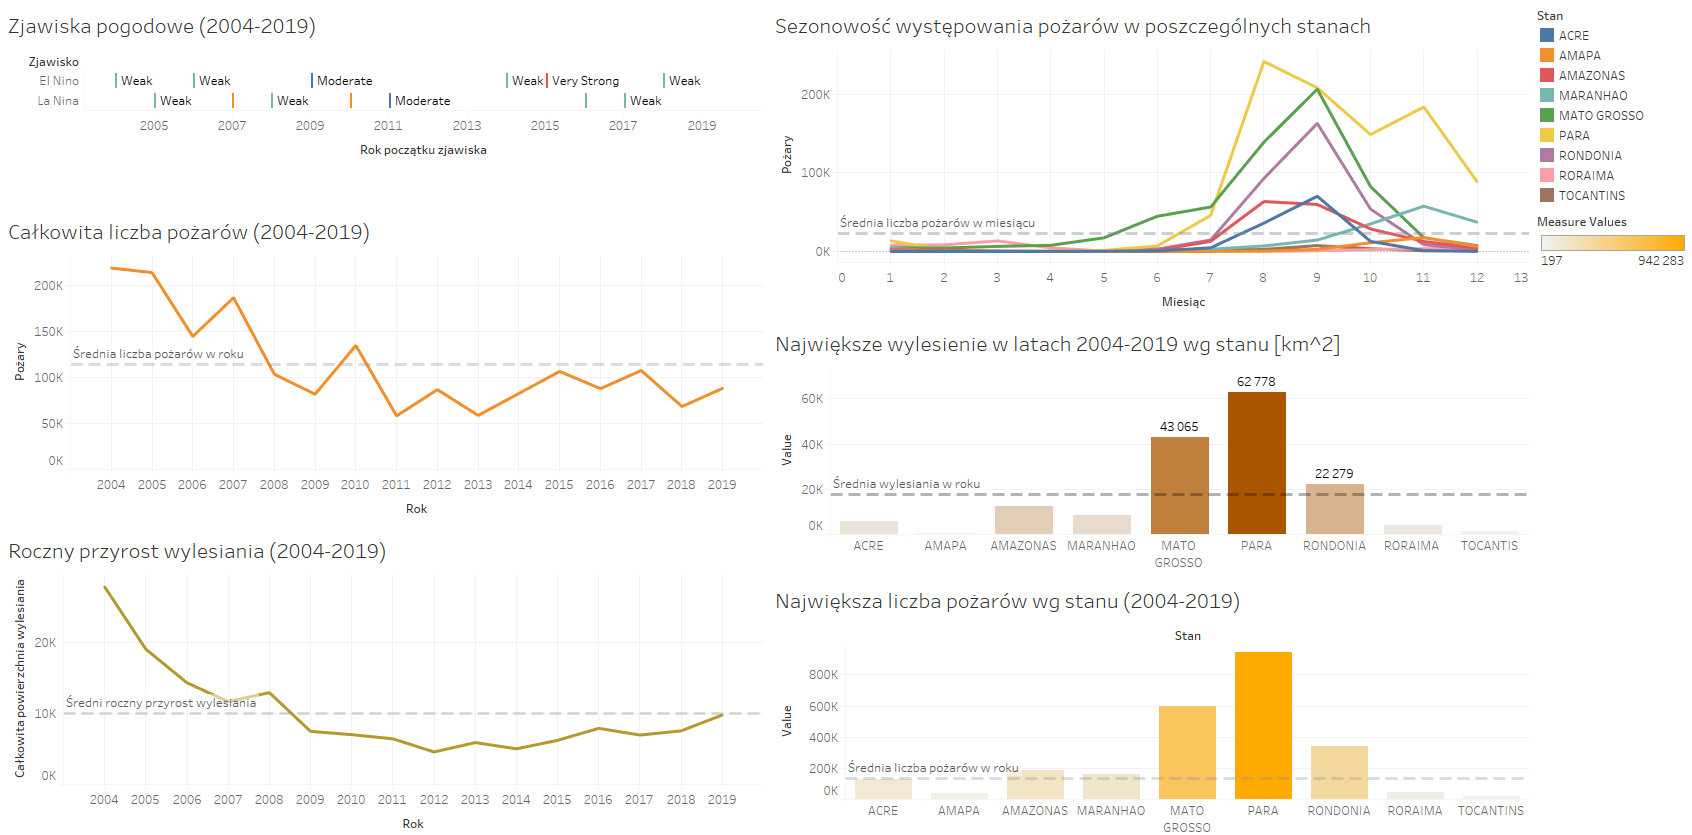

This screenshot's page, from the dashboard's own definition file:
{"tool":"tableau","page":{"name":"Dashboard 2","canvas":[1000,1000],"units":"permille","ordinal":1},"visuals":[{"type":"worksheet","title":"Zjawiska pogodowe (2)","mark":"Automatic","rows":["phenomenon"],"cols":["start_year"],"box":[4.7,9.3,448.5,240.7]},{"type":"worksheet","title":"Sezonowość pożarów wg stanów","mark":"Automatic","rows":["firespots"],"cols":["month"],"box":[453.2,9.3,448.5,371.5]},{"type":"legend","title":"Sezonowość pożarów wg stanów","param":"[federated.10yu5iu0tep4pw1dtmyhq009dr22].[none:state:nk]","box":[901.7,9.3,93.6,240.7]},{"type":"worksheet","title":"Całkowita liczba pożarów rocznie","mark":"Automatic","rows":["firespots"],"cols":["year"],"box":[4.7,250,448.5,372.7]},{"type":"legend","title":"Największa liczba pożarów","param":"[federated.10yu5iu0tep4pw1dtmyhq009dr22].[Multiple Values]","box":[901.7,250,93.6,75.9]},{"type":"worksheet","title":"Największe wylesienie","mark":"Automatic","box":[453.2,380.8,448.5,300.2]},{"type":"worksheet","title":"Ogólny trend wylesiania (2)","mark":"Automatic","rows":["AMZ LEGAL"],"cols":["Ano/Estados"],"box":[4.7,622.7,448.5,368]},{"type":"worksheet","title":"Największa liczba pożarów","mark":"Automatic","cols":["state"],"box":[453.2,681.1,448.5,309.6]}]}

Visuals, with their boxes on the dashboard's canvas, which has no fixed pixel size, in thousandths of its width and height (x1, y1, x2, y2). These are canvas units, not pixel positions in the 1692x835 screenshot, which may show the page scaled, cropped or inside an application window:
"Zjawiska pogodowe (2)" worksheet: pyautogui.locateOnScreen(5, 9, 453, 250)
"Sezonowość pożarów wg stanów" worksheet: pyautogui.locateOnScreen(453, 9, 902, 381)
"Sezonowość pożarów wg stanów" legend: pyautogui.locateOnScreen(902, 9, 995, 250)
"Całkowita liczba pożarów rocznie" worksheet: pyautogui.locateOnScreen(5, 250, 453, 623)
"Największa liczba pożarów" legend: pyautogui.locateOnScreen(902, 250, 995, 326)
"Największe wylesienie" worksheet: pyautogui.locateOnScreen(453, 381, 902, 681)
"Ogólny trend wylesiania (2)" worksheet: pyautogui.locateOnScreen(5, 623, 453, 991)
"Największa liczba pożarów" worksheet: pyautogui.locateOnScreen(453, 681, 902, 991)
